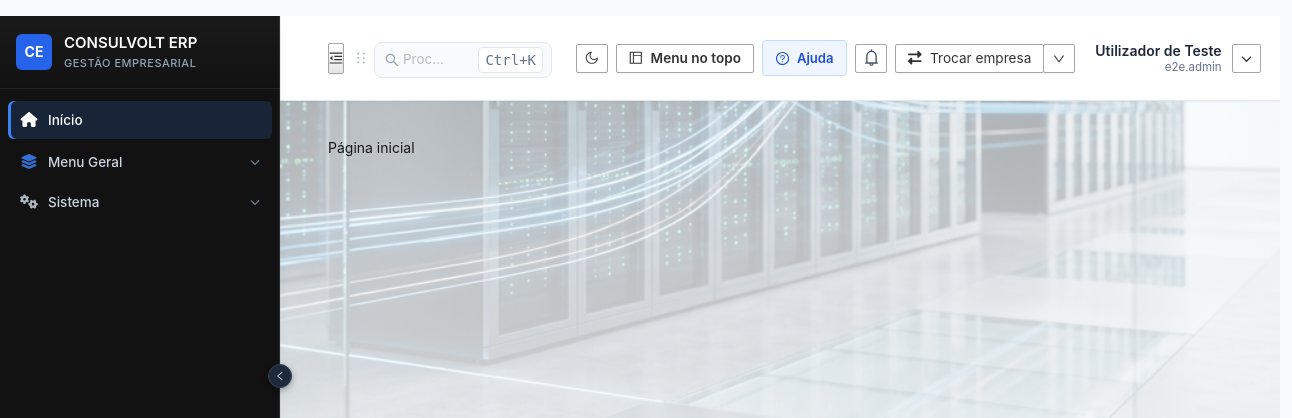
LayoutPrincipal — funcionalidades transversais (ronda 2) › Ctrl+K foca o campo «Procurar» da barra superior e Enter abre o primeiro resultado
The image size is (1292, 418).
(page scrolled)
expect the header named "Procurar no sistema" is shown: met, box top-left (280, 16), bottom-right (1280, 101)
Step 1. Press k
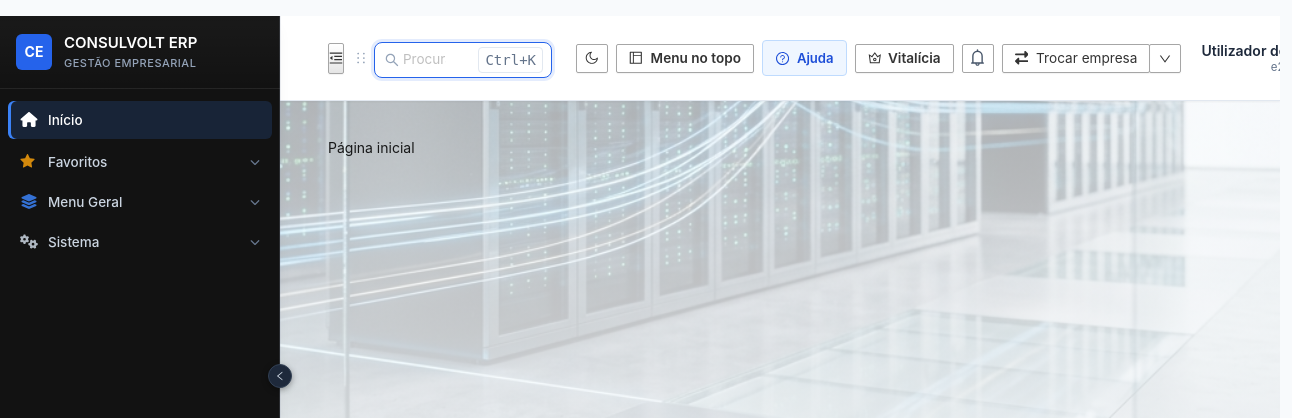
Step 2. Type "factur" into the dropdown named "Procurar no sistema" → point(427, 60), box top-left (403, 47), bottom-right (450, 73)
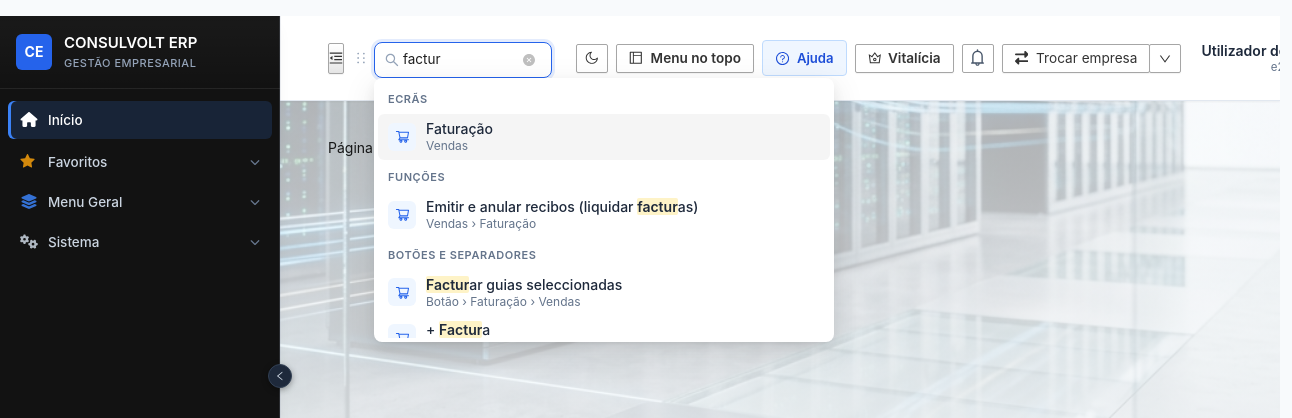
expect the text "Ecrãs" is shown: met, box top-left (388, 92), bottom-right (428, 106)
// o AutoComplete (rc-select) lê o código da tecla
Step 3. Press Enter in the dropdown named "Procurar no sistema", box top-left (403, 47), bottom-right (515, 73)
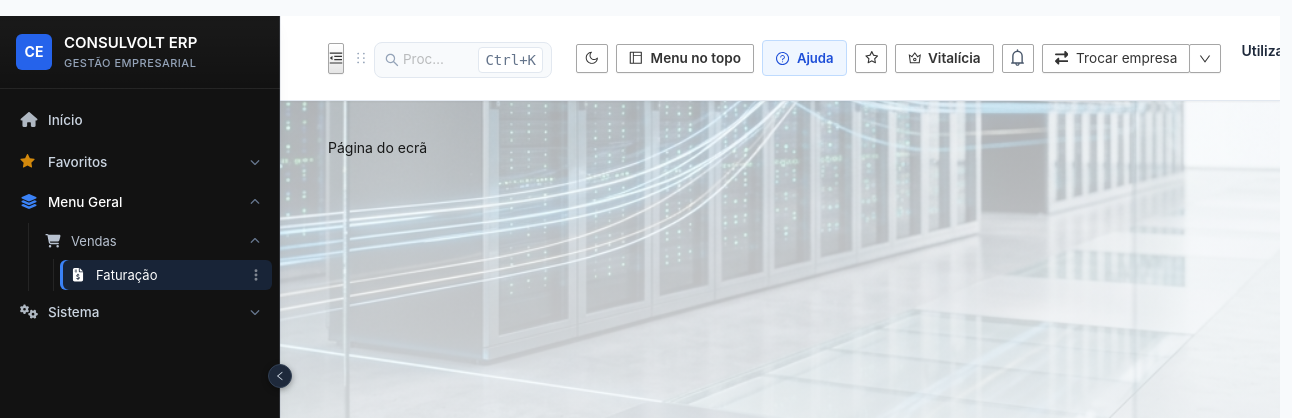
expect the text "Página do ecrã" is shown: met, box top-left (328, 139), bottom-right (427, 156)
expect the dropdown named "Procurar no sistema" is empty: met, box top-left (403, 47), bottom-right (450, 73)
